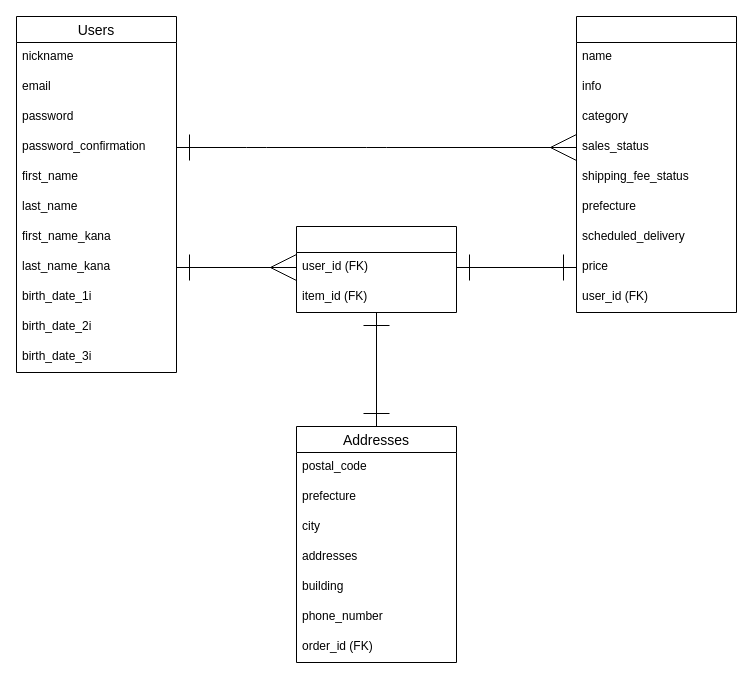
Image size: 753x679. Some labels were removed from this diagram. Each missing label, with the box of its shape:
Items: (576, 16, 736, 312)
Orders: (296, 226, 456, 312)
